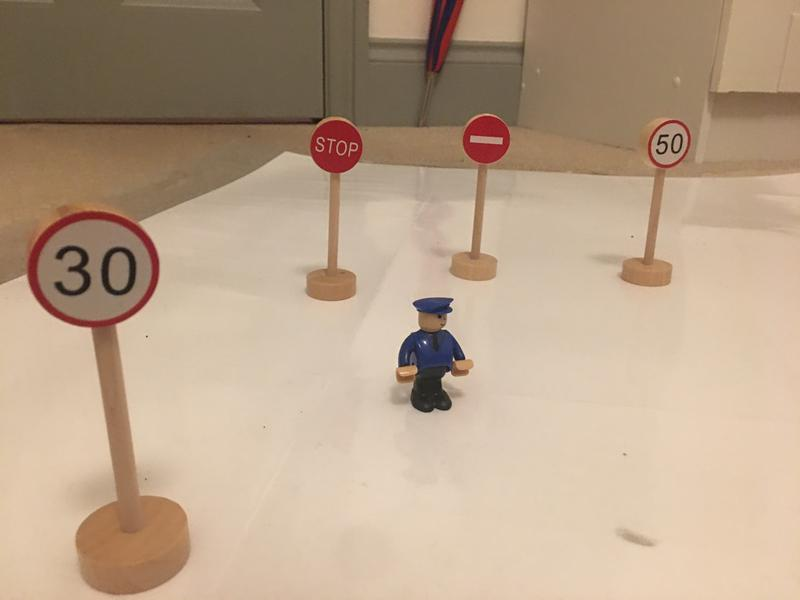Traffic_Sign_30: (31, 211, 158, 330)
Traffic_Sign_50: (647, 119, 690, 171)
Traffic_Sign_No_Entry: (463, 112, 510, 166)
Traffic_Sign_Stop: (311, 116, 364, 173)
person: (393, 295, 476, 417)
